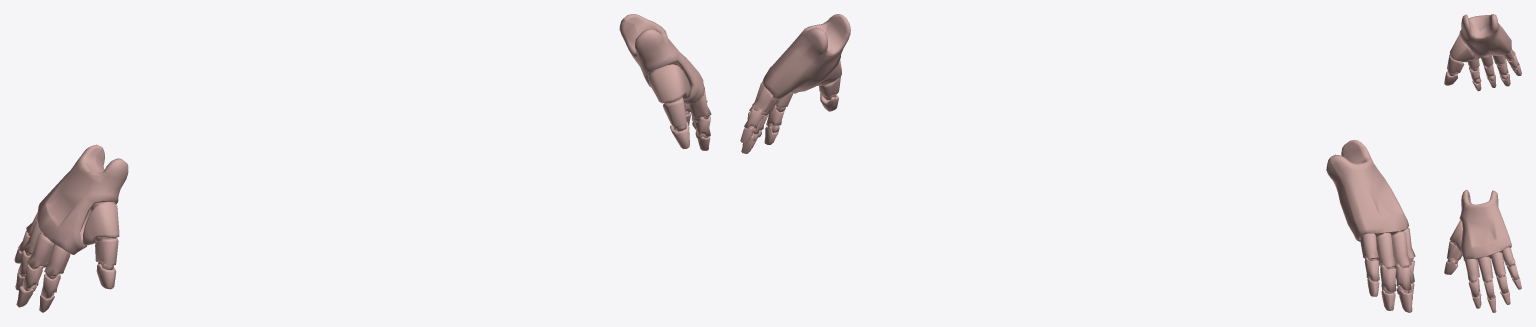
The model's file is hands.fbx.
The picture shows the model from 3 angles, left to right: view 1: azimuth 30°, elevation 25°; view 2: azimuth 150°, elevation 25°; view 3: azimuth 270°, elevation 25°; orthographic projection. The views are drawn at different scales.
Visible parts, largest first — view 1: hands; view 2: hands; view 3: hands.
Boxes of the visible parts, x1,y1,x2,y2 form: hands: [14, 14, 711, 312]; hands: [740, 14, 1415, 312]; hands: [1444, 14, 1521, 312].
Bounding box in the file's own units: 69.22 × 13.77 × 10.02.
